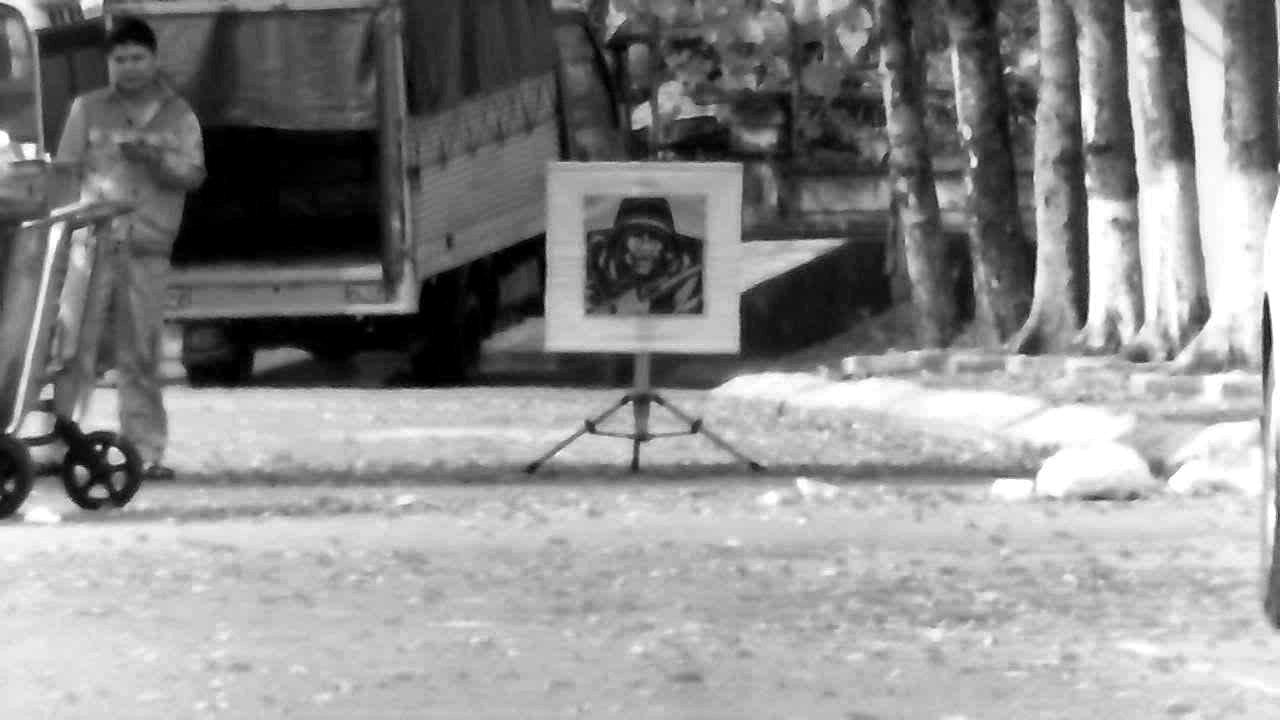bia: (582, 192, 706, 318)
chan: (525, 356, 761, 473)
